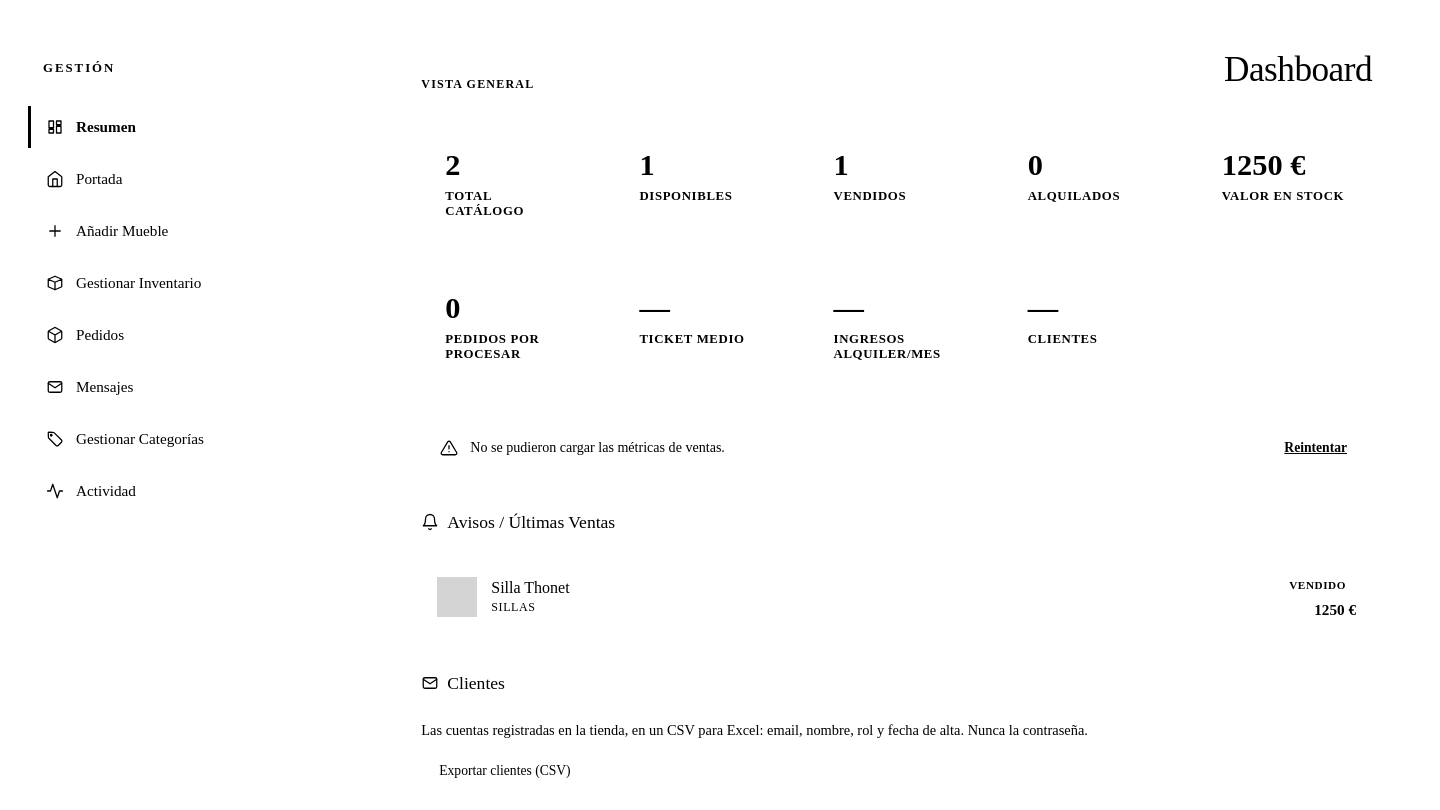
Test: Inventario — duplicar pieza › "Cancelar" no duplica nada
Click the button "Gestionar Inventario" at (185,283), box [28,262,341,304]
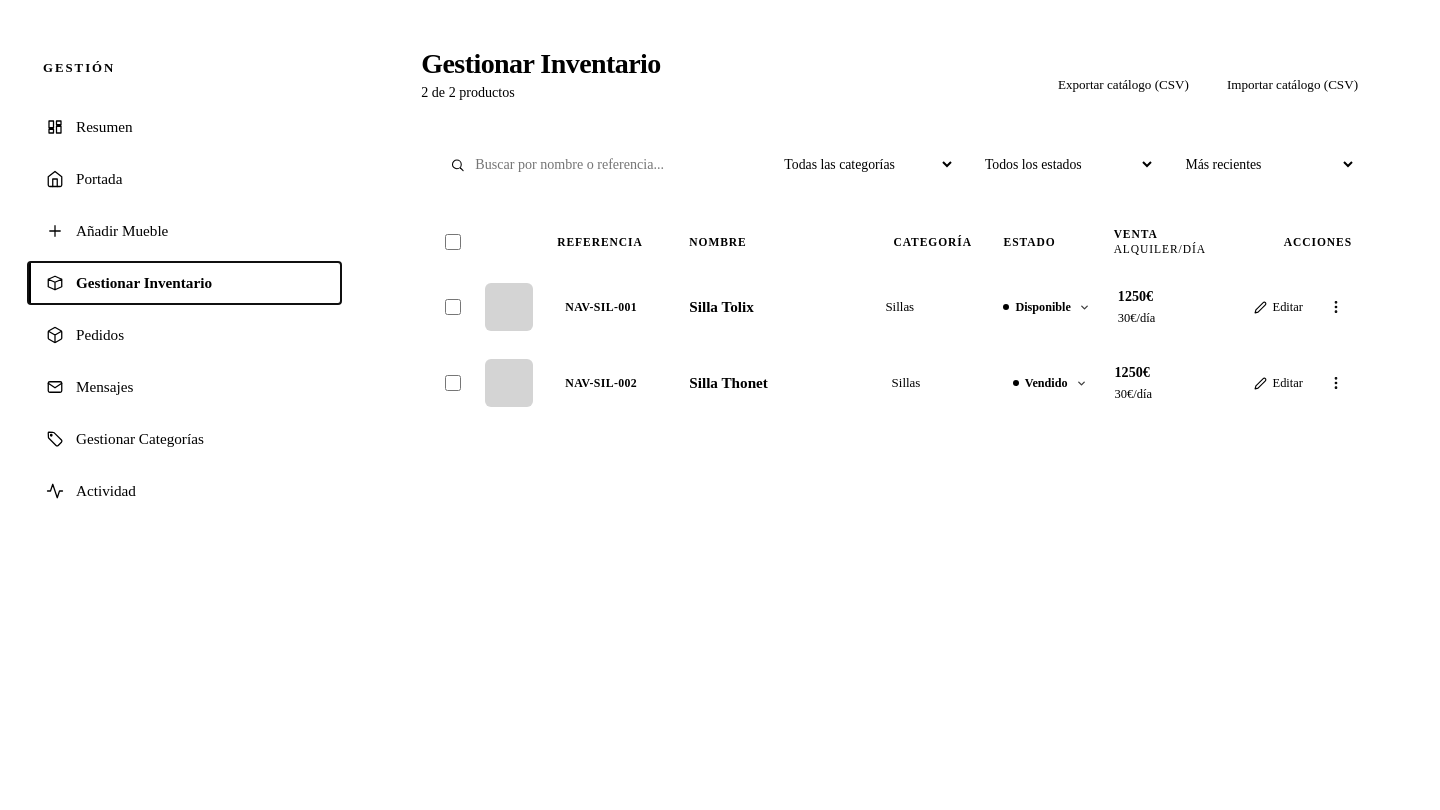
Click the button named "Más acciones de Silla Thonet" at (1336,383), box [1320,369,1352,397]
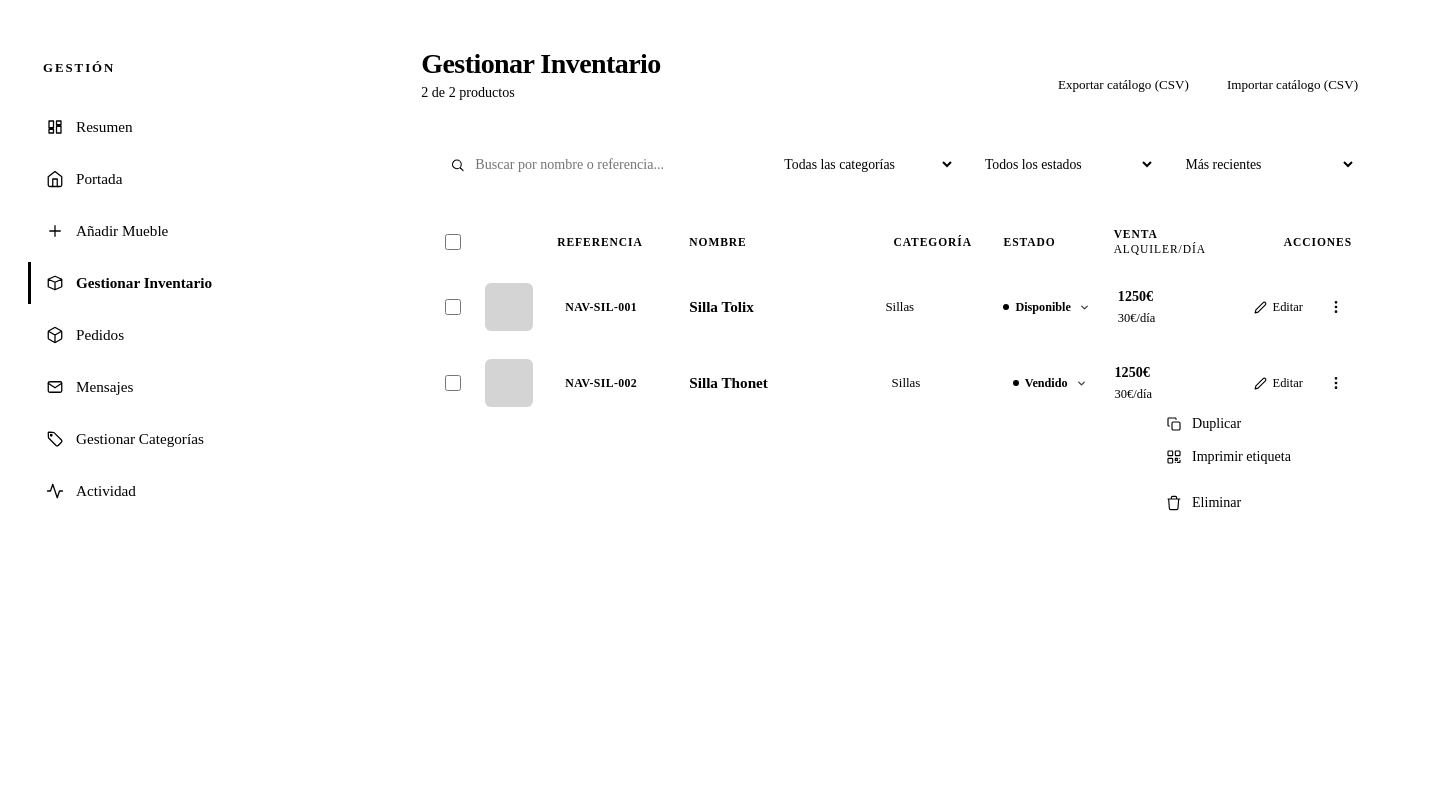
Click the menu item "Duplicar" at (1251,424), box [1156,407,1346,440]
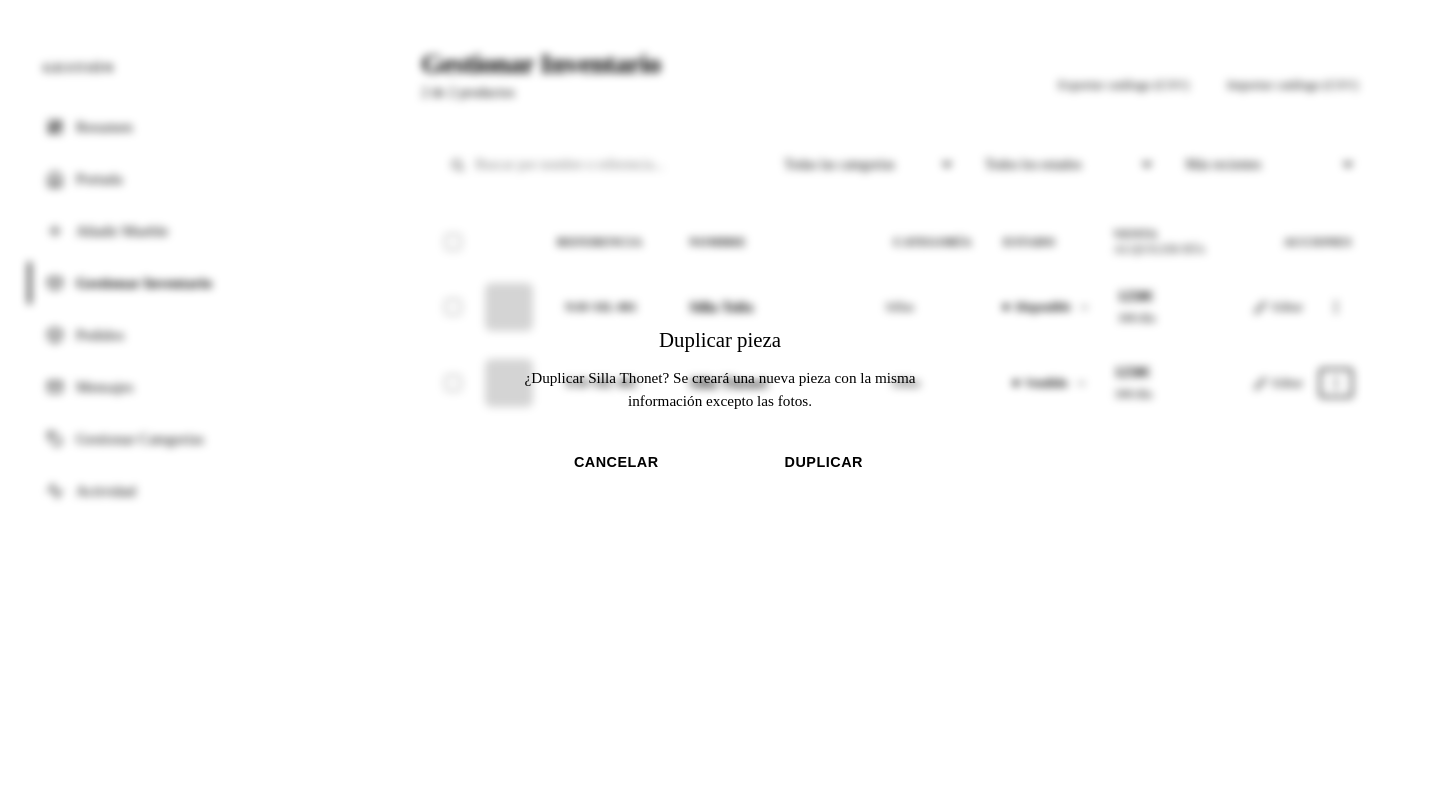
Click the button "Cancelar" at (616,462), box [520,442,712,482]
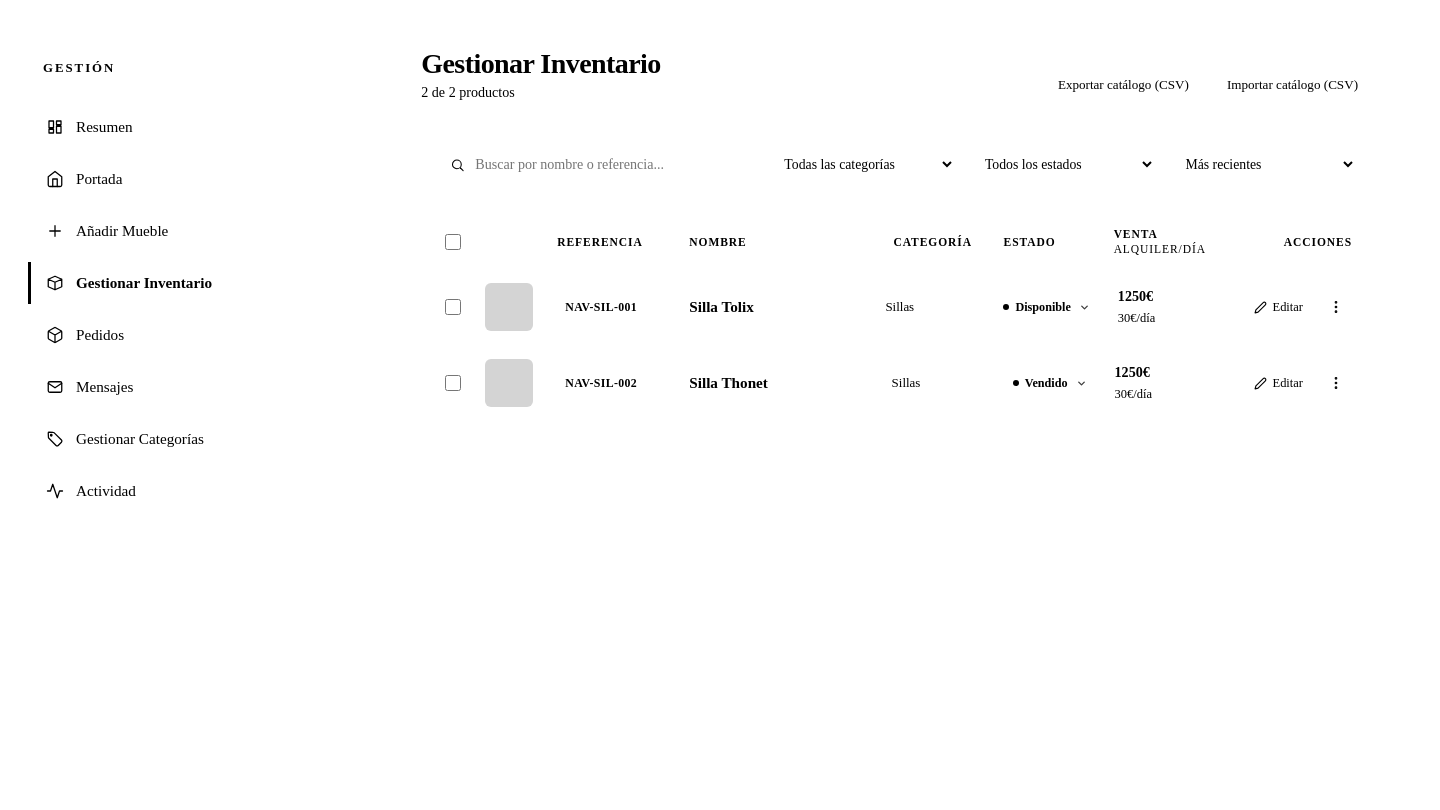
expect the heading "Duplicar pieza" is gone: met
